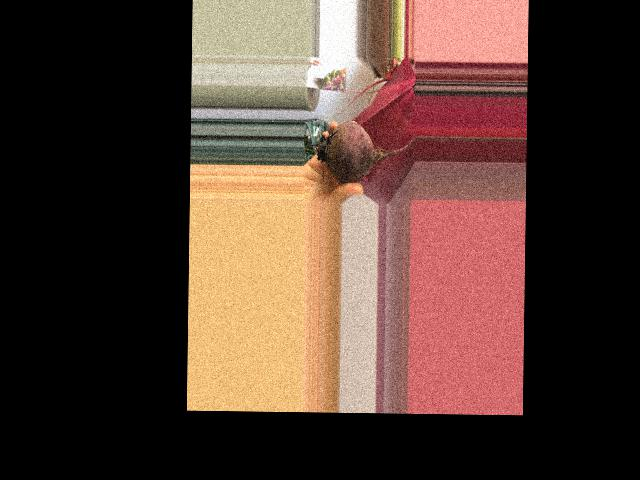beet: (303, 120, 414, 183)
